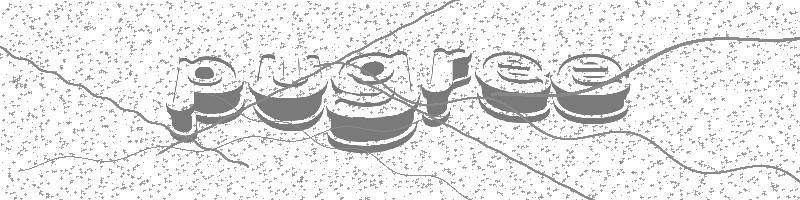e: (478, 46, 552, 125), (553, 52, 634, 123)
g: (327, 51, 419, 152)
p: (164, 53, 248, 141)
r: (423, 45, 474, 127)
u: (248, 49, 328, 132)
